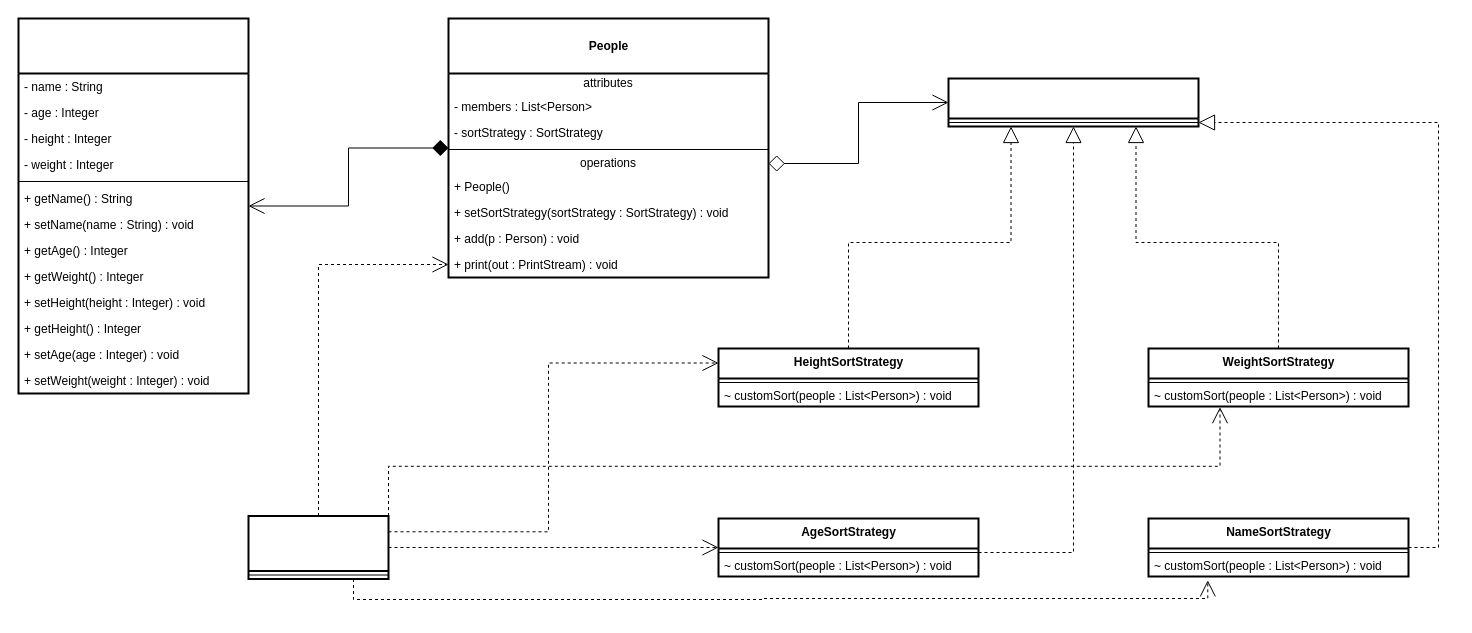
Some shapes in this 1472 by 633 pixel diagram are drawn without their labels. Here are the shapes that lost their labels. From the top down, the box of each, then its label:
(947, 77, 1199, 127): <<interface>> SortStrategy
(17, 17, 249, 394): Person
(247, 514, 389, 580): Main
